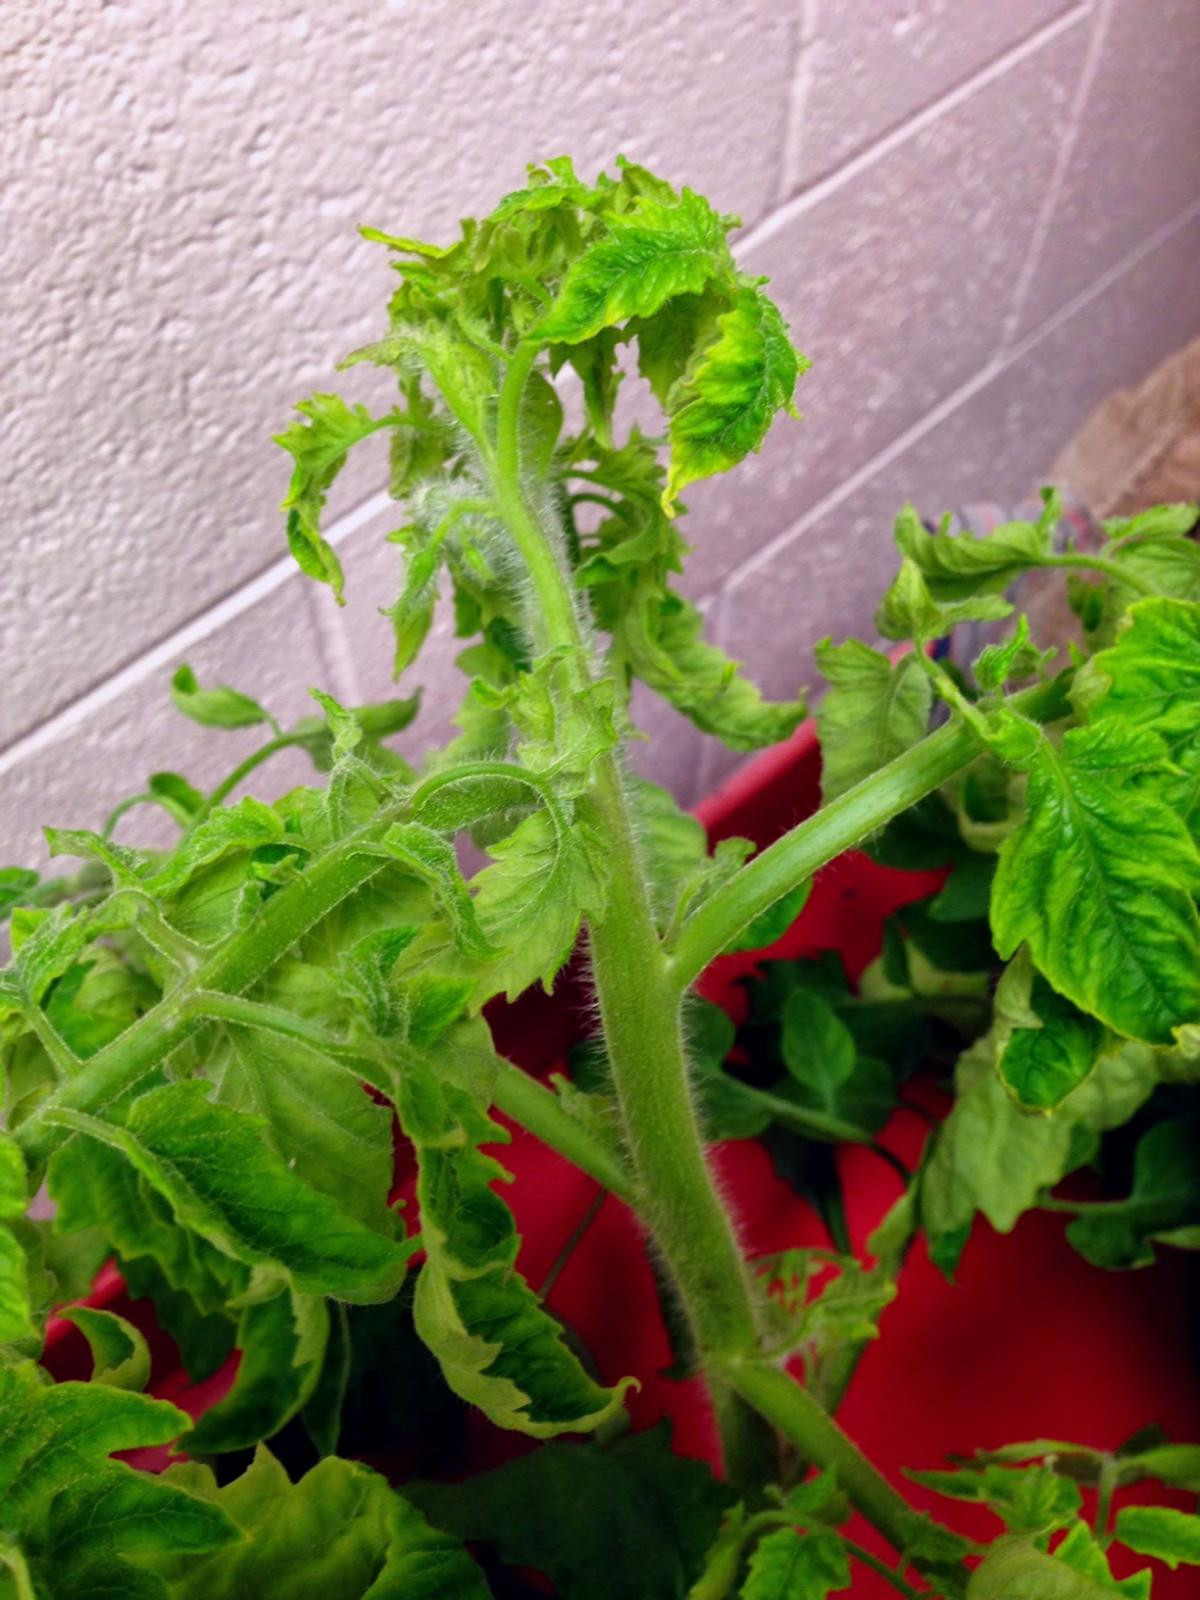Tomato leaf yellow virus: (382, 1039, 629, 1467), (963, 684, 1199, 1052), (84, 1069, 400, 1325), (634, 281, 816, 550), (410, 780, 604, 1010), (511, 163, 718, 376)
